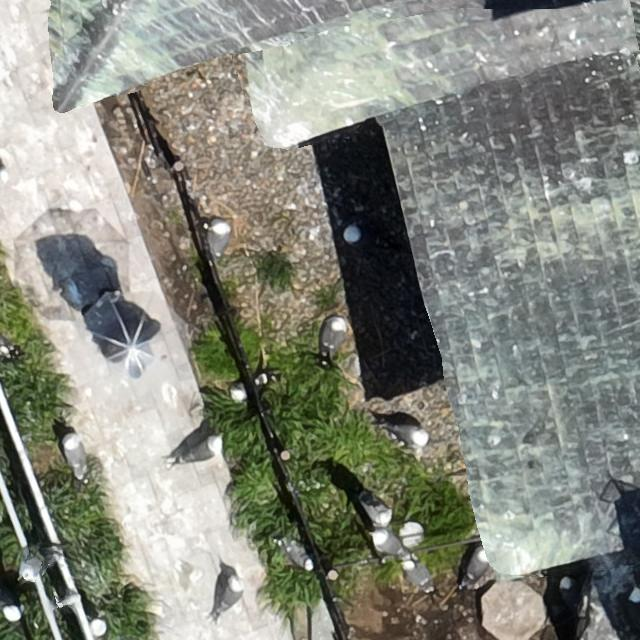umineko: (209, 574, 250, 615), (62, 429, 90, 481), (466, 548, 492, 586), (556, 575, 575, 621), (322, 318, 346, 354), (391, 424, 428, 446), (184, 439, 219, 461), (285, 543, 312, 570), (623, 587, 640, 627), (374, 532, 402, 556), (406, 562, 430, 589), (210, 223, 230, 254), (349, 226, 377, 247), (370, 500, 391, 524), (2, 602, 23, 622), (21, 558, 40, 578), (56, 592, 80, 607), (91, 617, 106, 638), (0, 334, 10, 353)
